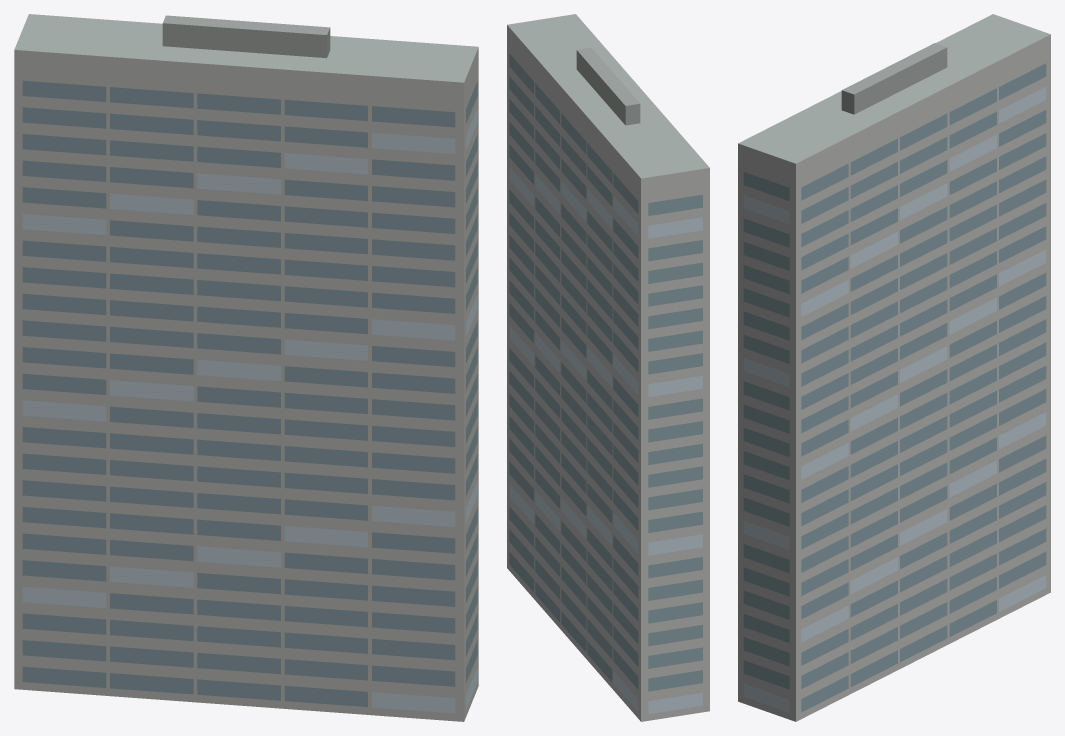
Rendered from fallback-gwanak-dream-town-120.glb.
3 views of the same model, side by side, from view 1: azimuth 30°, elevation 25°; view 2: azimuth 150°, elevation 25°; view 3: azimuth 270°, elevation 25° (orthographic). The views are drawn at different scales.
Visible parts, largest first — view 1: fallback-gwanak-dream-town-120; view 2: fallback-gwanak-dream-town-120; view 3: fallback-gwanak-dream-town-120.
Boxes of the visible parts, box(x1,y1,x2,y2) form: fallback-gwanak-dream-town-120: box(14, 14, 478, 721); fallback-gwanak-dream-town-120: box(507, 14, 709, 721); fallback-gwanak-dream-town-120: box(738, 14, 1050, 721).
Bounding box in the file's own units: 38.33 × 69 × 33.84.
